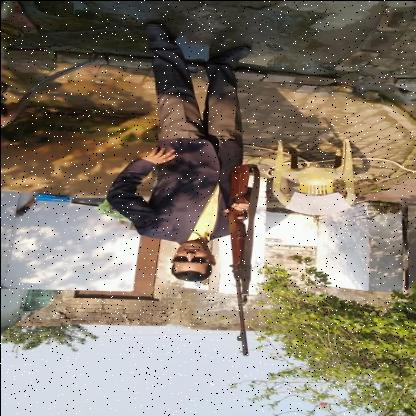rifle: (222, 162, 260, 356)
